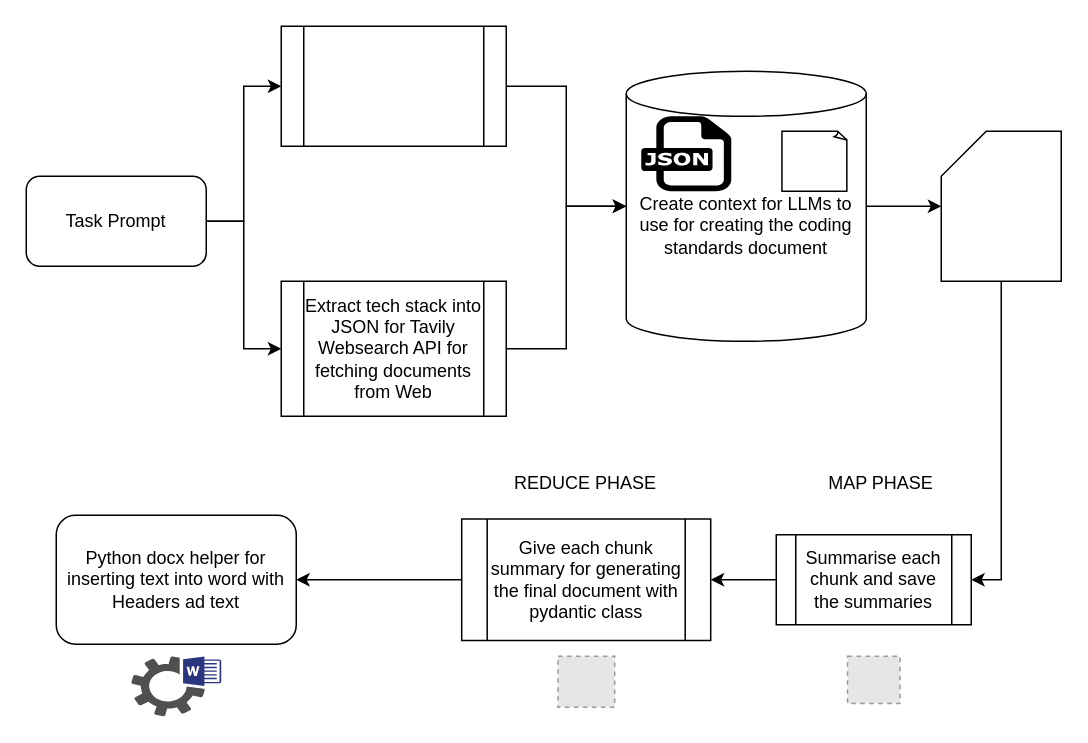
Some shapes in this 1088 by 743 pixel diagram are drawn without their labels. Grey dashed boxes stand in for pictures. Each missing label, with the centre of its shape:
".md Files" goes at [814,160].
"Data Chunking (Context Length : Too long)" goes at [1000,205].
"Extract http:// links from the prompt for crawler" goes at [393,85].
